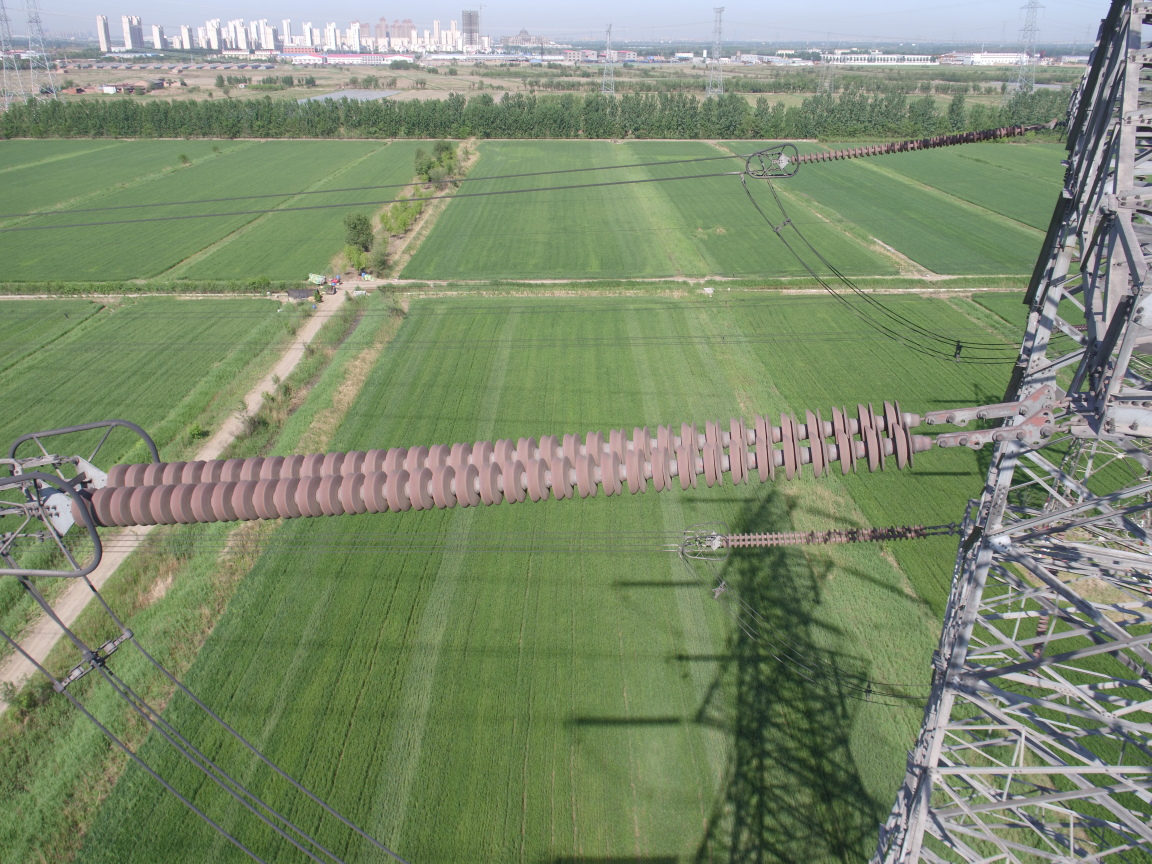insulator: (57, 394, 1001, 528), (715, 522, 944, 549)
